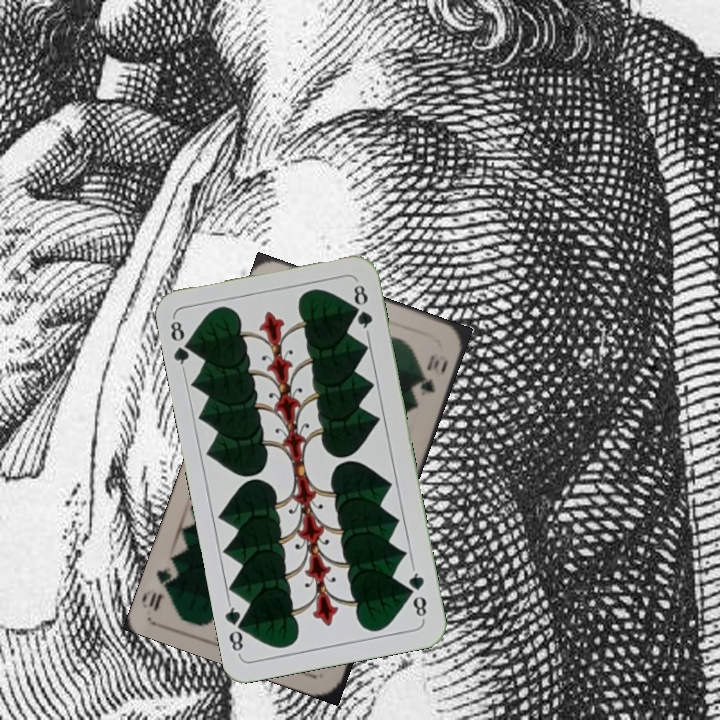G8: (166, 314, 197, 373), (404, 564, 430, 622)
